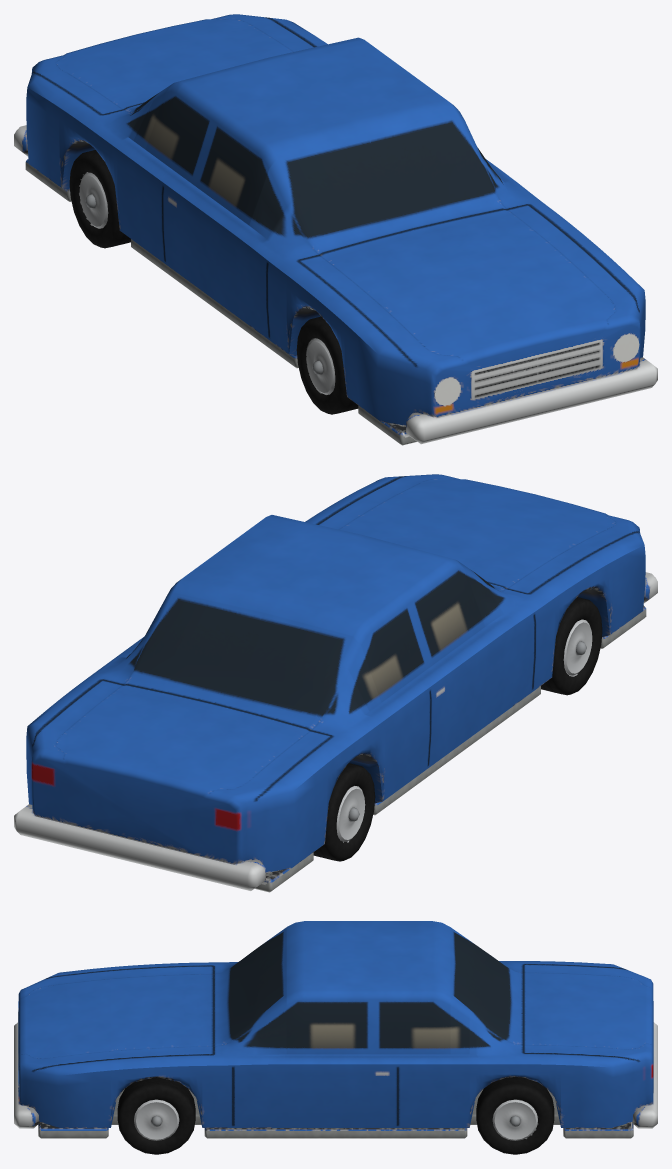
Rendered from DiecastCar.fbx.
3 views of the same model, one above another, from view 1: azimuth 30°, elevation 25°; view 2: azimuth 150°, elevation 25°; view 3: azimuth 270°, elevation 25° (orthographic). The views are drawn at different scales.
Parts seen in each view (by area): view 1: DiecastCar_Body, DiecastCar_WheelRR, DiecastCar_WheelFR; view 2: DiecastCar_Body, DiecastCar_WheelRR, DiecastCar_WheelFR; view 3: DiecastCar_Body, DiecastCar_WheelRL, DiecastCar_WheelFL.
Part boxes in pixels (box(x1,y1,x2,y2)): DiecastCar_Body: box(14, 14, 657, 445); DiecastCar_WheelRR: box(69, 150, 130, 248); DiecastCar_WheelFR: box(296, 316, 358, 414); DiecastCar_Body: box(14, 474, 657, 892); DiecastCar_WheelRR: box(313, 763, 375, 861); DiecastCar_WheelFR: box(541, 597, 602, 695); DiecastCar_Body: box(14, 921, 657, 1138); DiecastCar_WheelRL: box(476, 1077, 554, 1154); DiecastCar_WheelFL: box(117, 1077, 195, 1154).
Size of the model in its own units: 0.1202 by 0.0811 by 0.311.
1 material, 1 textured.
